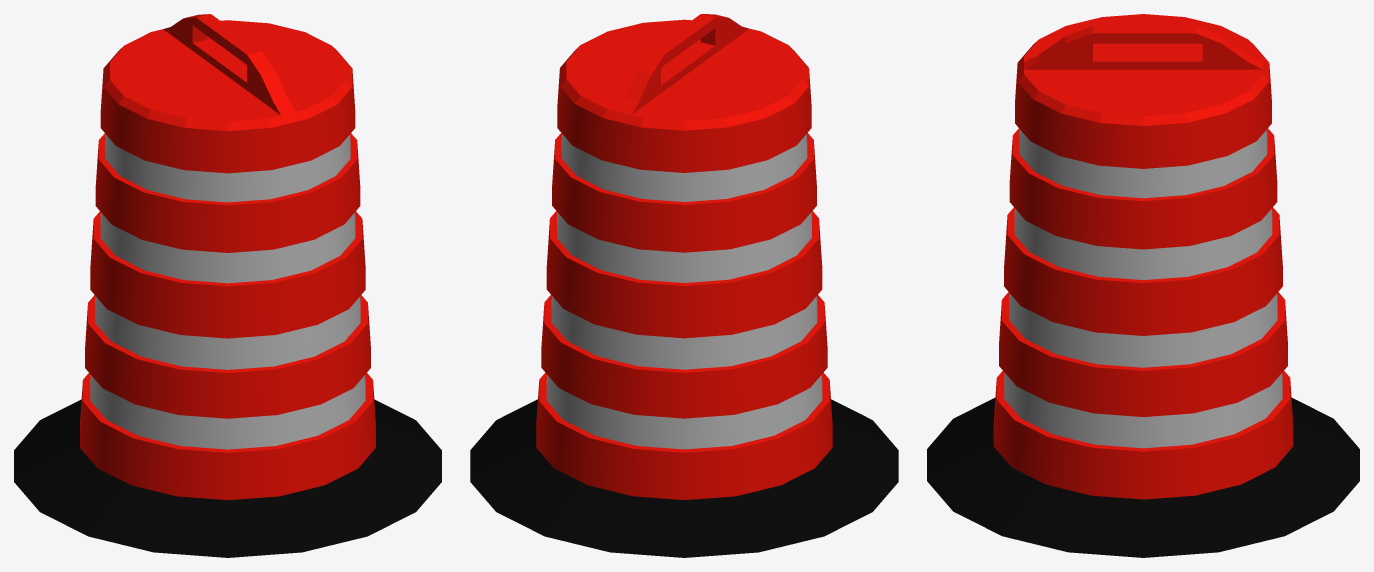
Rendered from TrafficCone.obj.
The picture shows the model from 3 angles, left to right: view 1: azimuth 30°, elevation 25°; view 2: azimuth 150°, elevation 25°; view 3: azimuth 270°, elevation 25°; orthographic projection.
Visible parts, largest first — view 1: Pylon_Cylinder001_08_-_Default_0.001; view 2: Pylon_Cylinder001_08_-_Default_0.001; view 3: Pylon_Cylinder001_08_-_Default_0.001.
Boxes of the visible parts, left/top/right/bottom form: Pylon_Cylinder001_08_-_Default_0.001: left=14, top=14, right=441, bottom=557; Pylon_Cylinder001_08_-_Default_0.001: left=470, top=14, right=898, bottom=557; Pylon_Cylinder001_08_-_Default_0.001: left=927, top=14, right=1359, bottom=557.
Size of the model in its own units: 0.7226 by 0.7914 by 0.7116.
